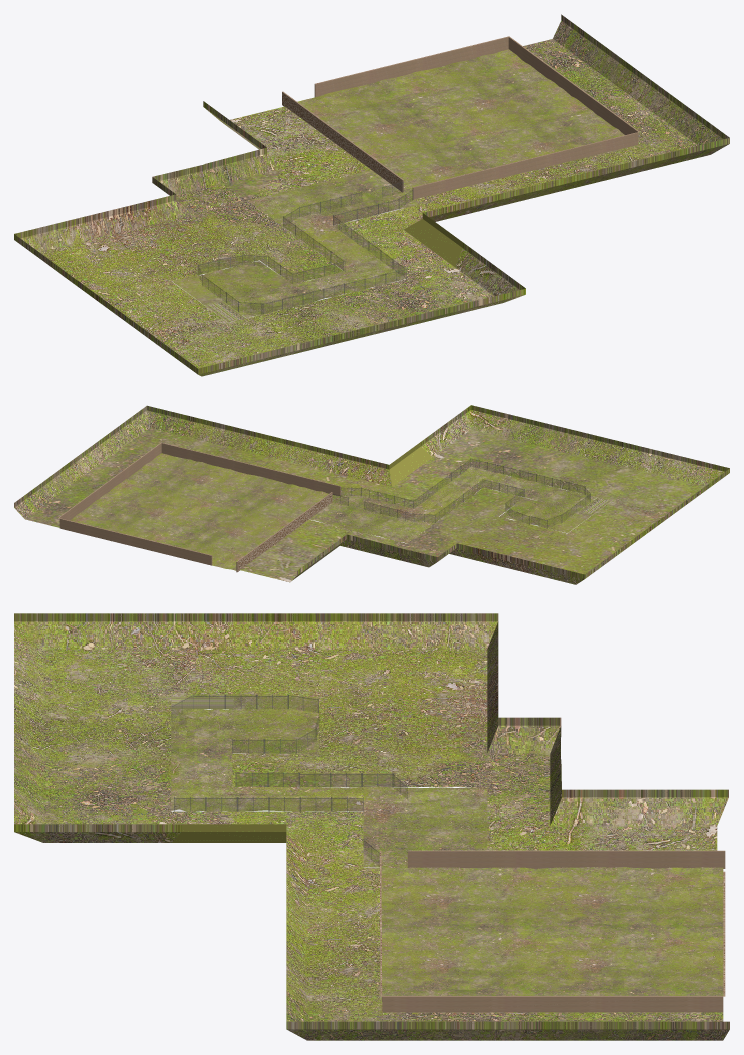
File: WorldFloorw_fence.glb
3 renders of one model, top to bottom at view 1: azimuth 30°, elevation 25°; view 2: azimuth 150°, elevation 25°; view 3: azimuth 270°, elevation 25°, orthographic. The views are drawn at different scales.
Visible parts, largest first — view 1: Plane, Floor, Cube; view 2: Plane, Floor, Cube; view 3: Plane, Floor, Cube.
Boxes of the visible parts, left/top/right/bottom form: Plane: left=14, top=14, right=729, bottom=376; Floor: left=172, top=49, right=624, bottom=322; Cube: left=282, top=36, right=639, bottom=199; Plane: left=14, top=405, right=729, bottom=584; Floor: left=70, top=453, right=611, bottom=570; Cube: left=58, top=442, right=340, bottom=572; Plane: left=14, top=613, right=729, bottom=1040; Floor: left=171, top=697, right=723, bottom=1012; Cube: left=379, top=850, right=725, bottom=1012.
Bounding box in the file's own units: 141 × 4.8 × 105.
Materials: 3 (3 with a texture image).
